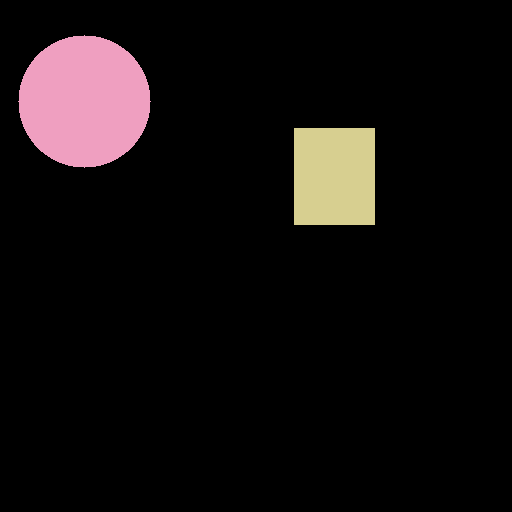circle: (18, 35, 150, 167)
rectangle: (294, 128, 374, 224)
